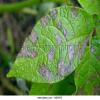Potato leaf early blight: (6, 5, 94, 85)
